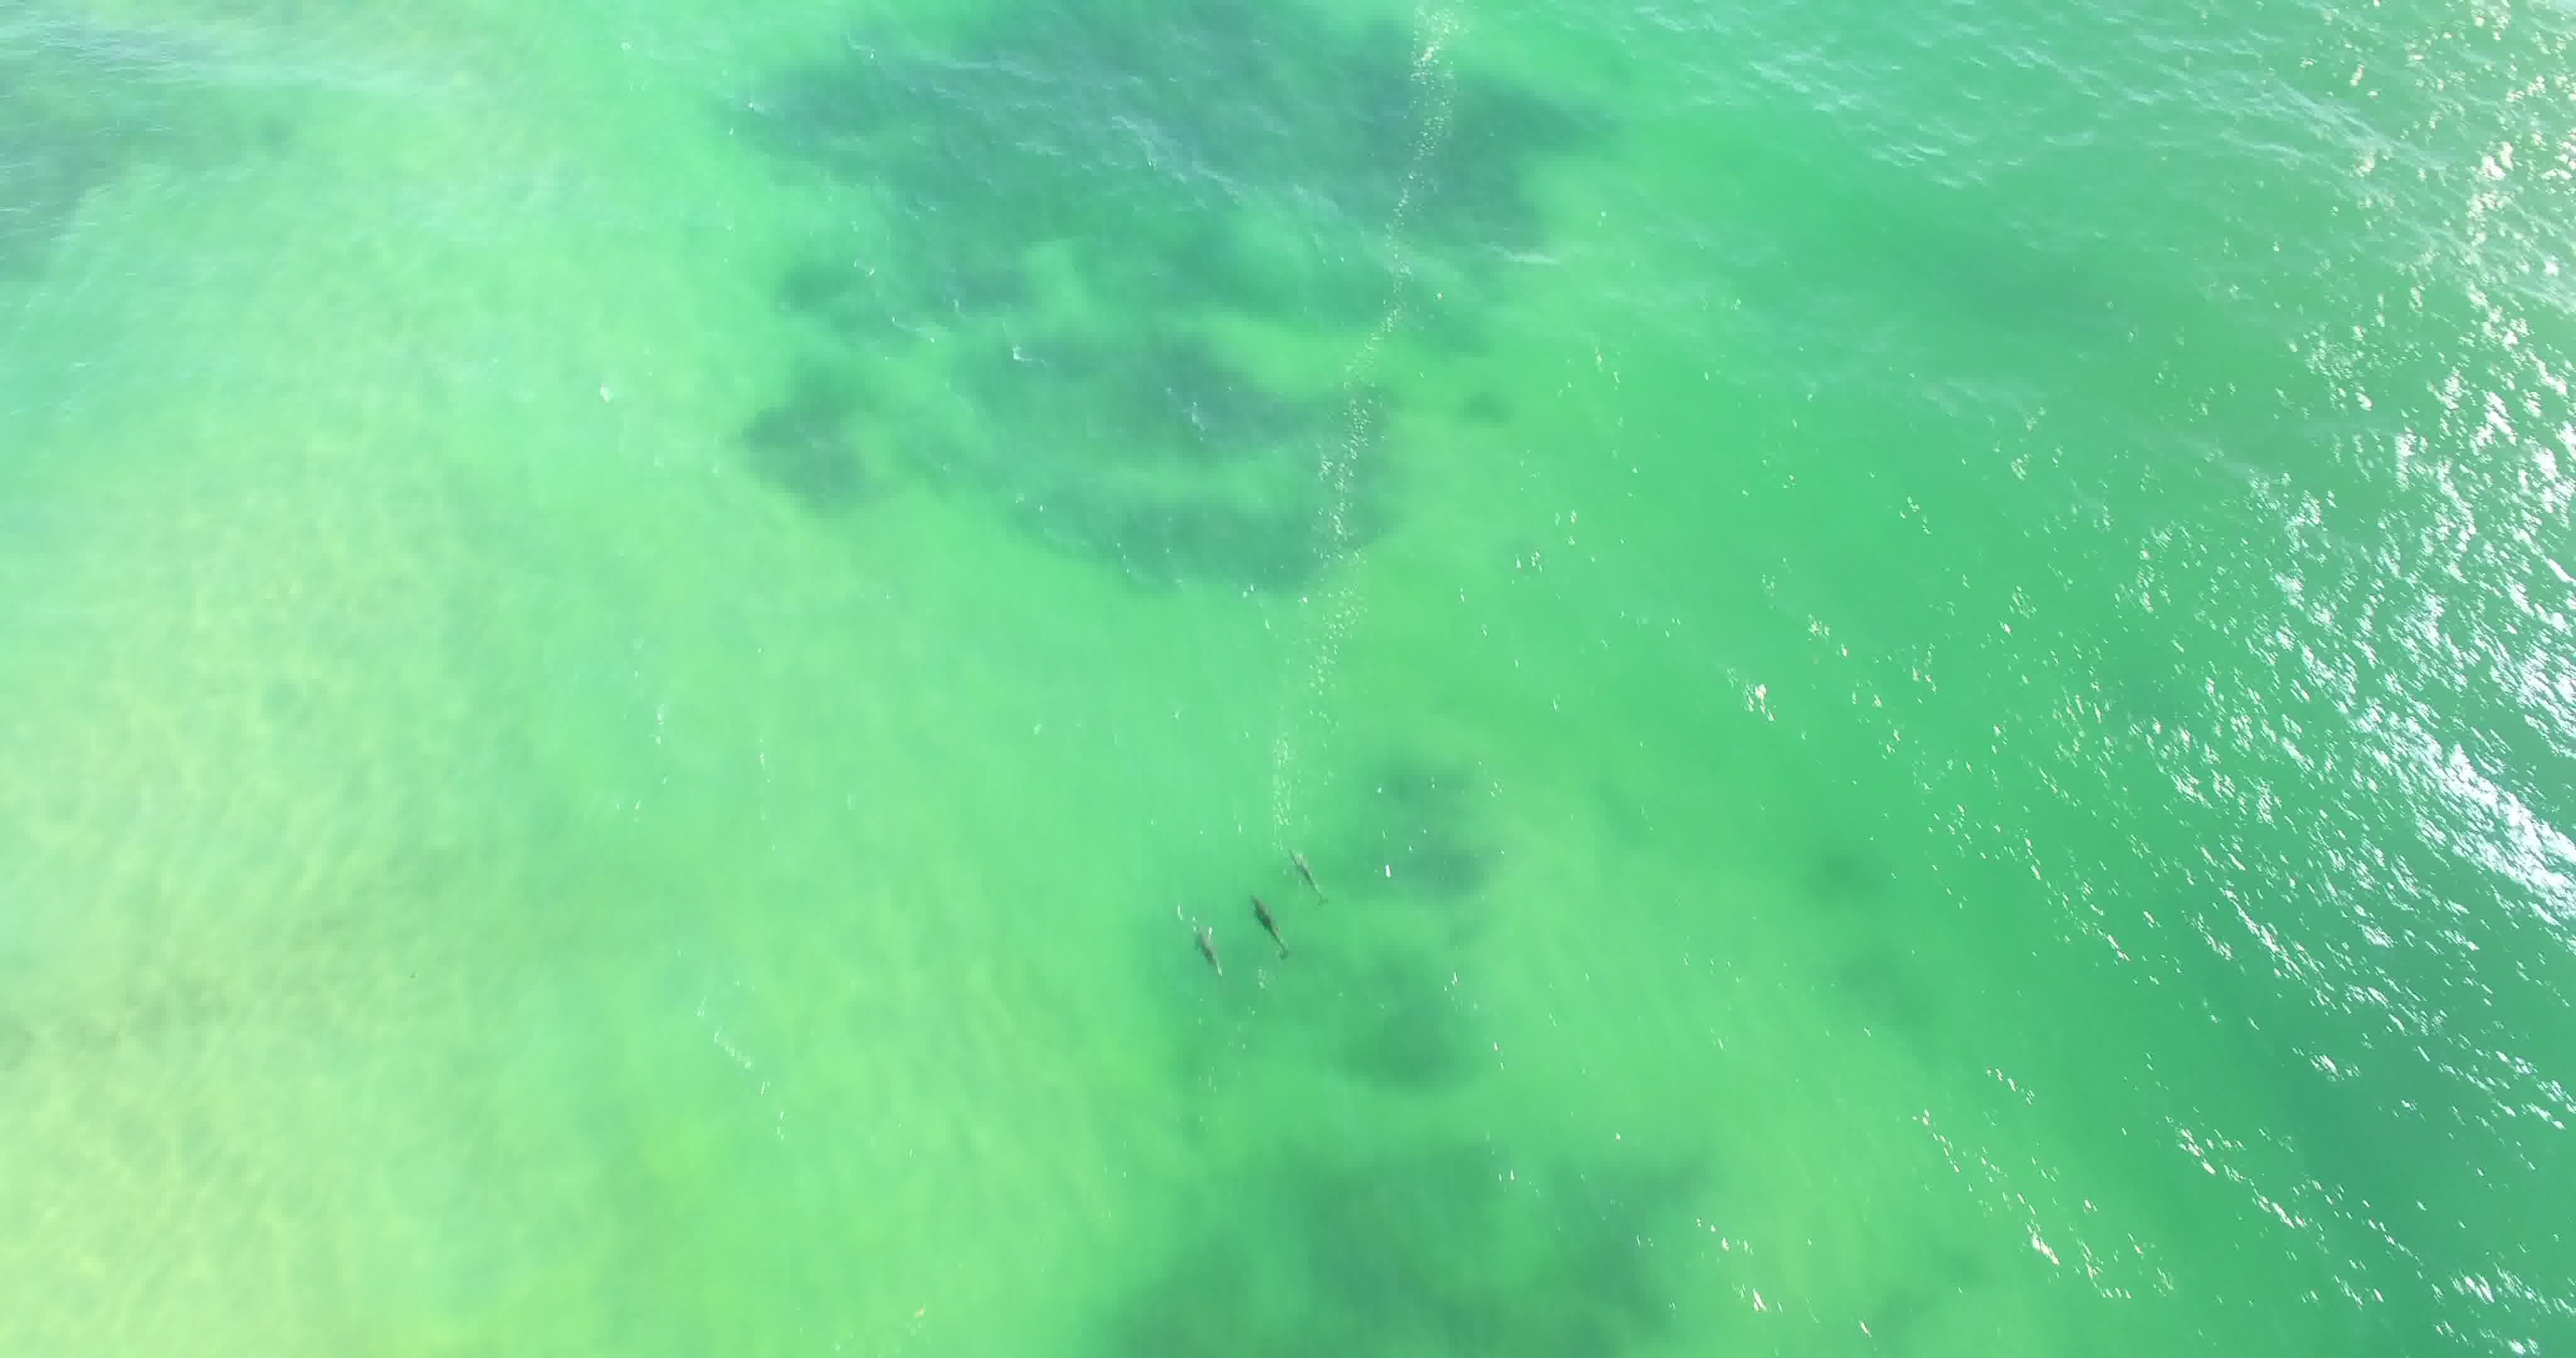dolphin: (1225, 876, 1300, 975), (1153, 900, 1235, 990), (1276, 820, 1339, 924)
